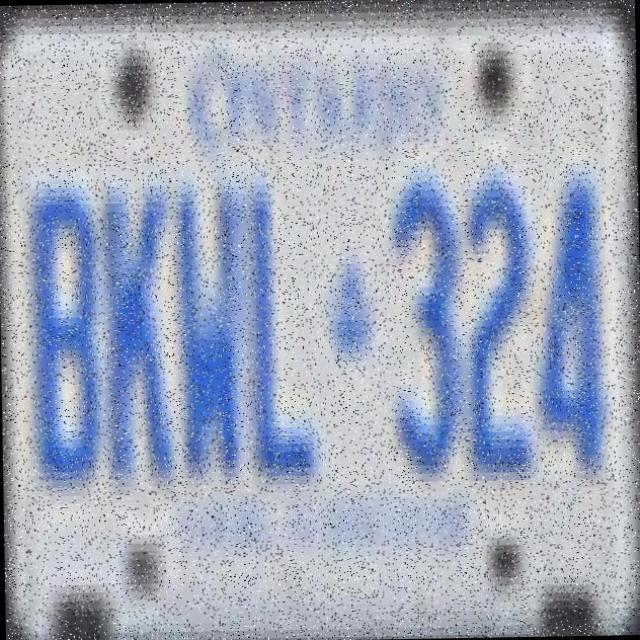LicensePlate: (0, 9, 640, 632)
